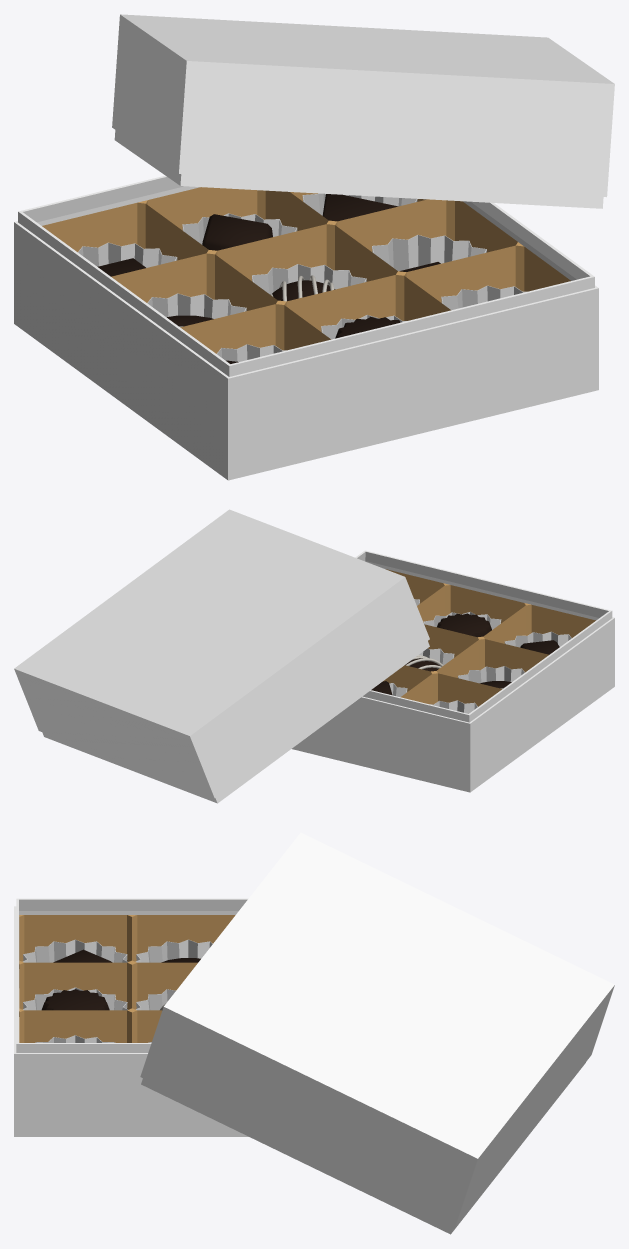
The model's file is chocolates.glb.
3 views of the same model, one above another, from view 1: azimuth 30°, elevation 25°; view 2: azimuth 150°, elevation 25°; view 3: azimuth 270°, elevation 25° (orthographic). The views are drawn at different scales.
Parts seen in each view (by area): view 1: Cube.003; view 2: Cube.003; view 3: Cube.003.
Part boxes in pixels (x1,y1,x2,y2): Cube.003: [14, 14, 614, 480]; Cube.003: [14, 509, 614, 803]; Cube.003: [14, 832, 614, 1234].
Size of the model in its own units: 3.36 by 1.47 by 3.55.
